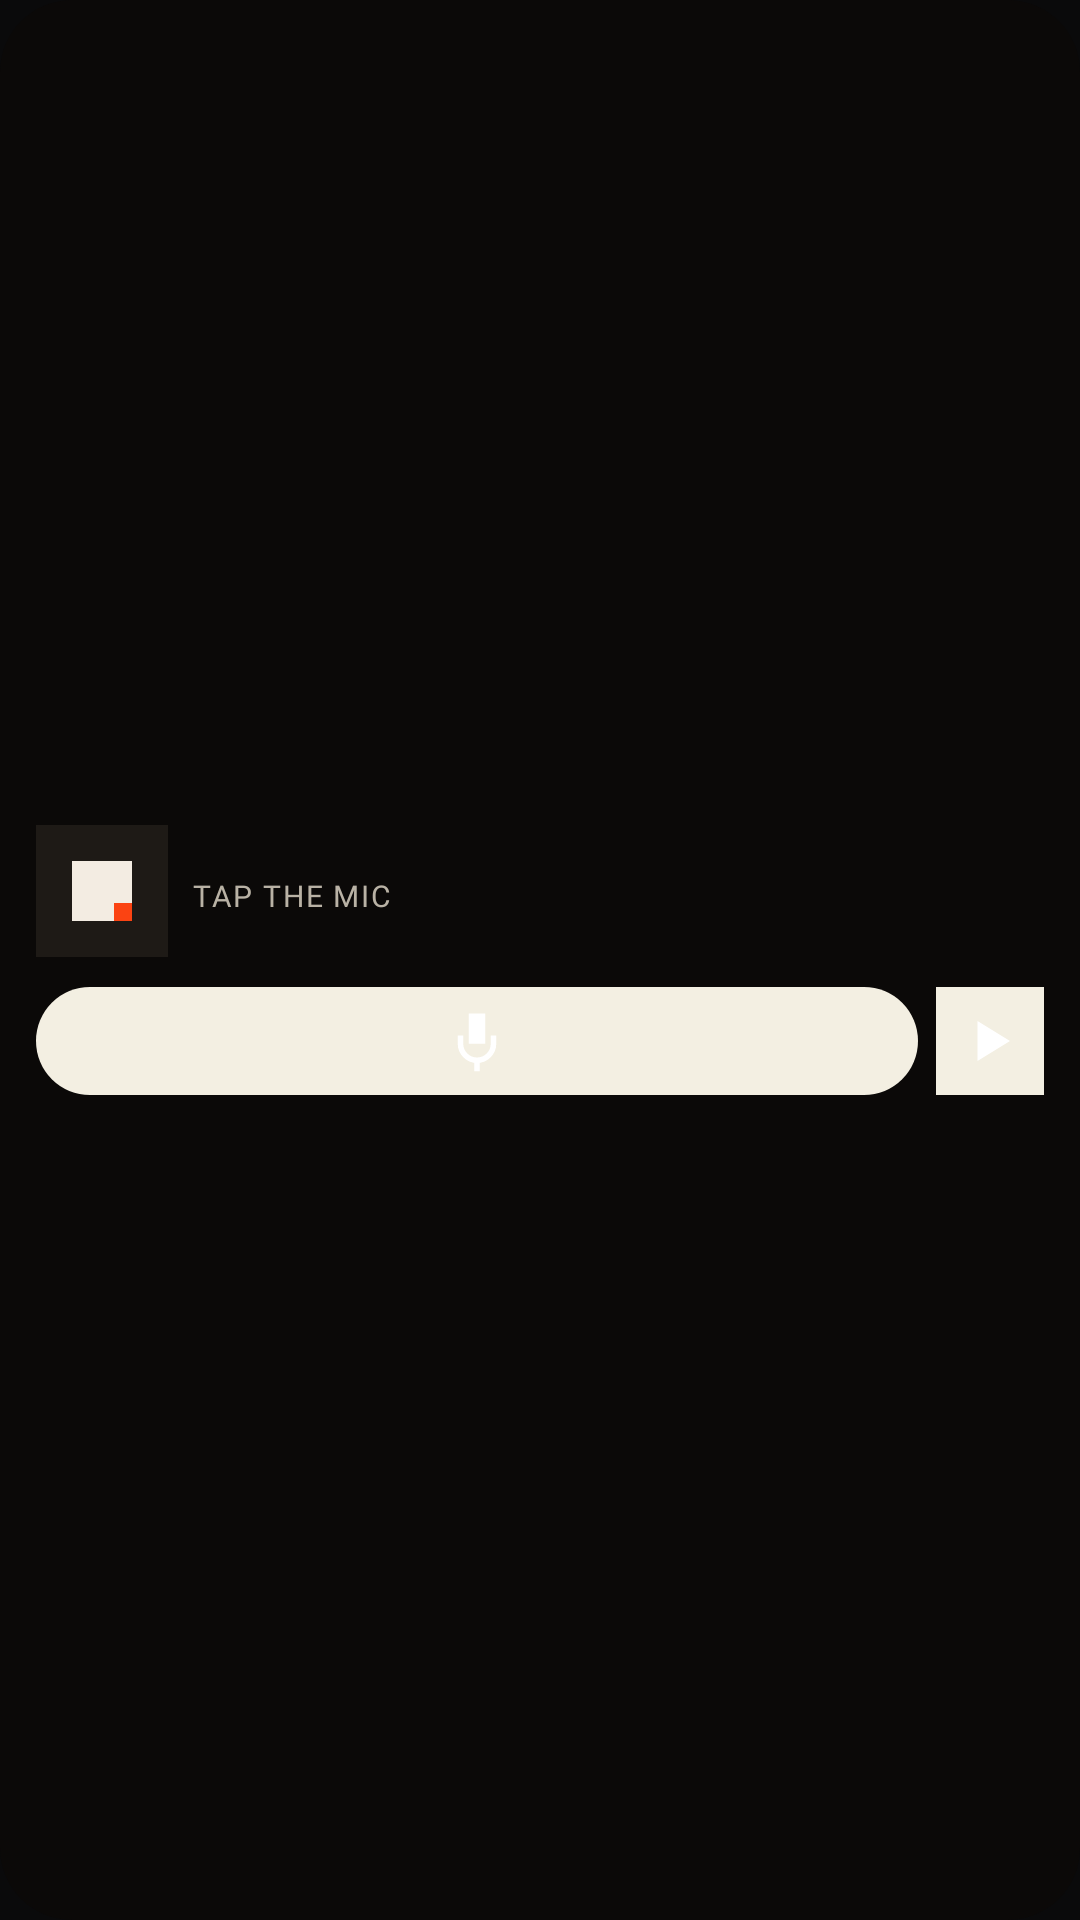

Point at icon controls on the screen. Image size 1080 x 1920, points as [x,y].
Play the identified song: [990,1041]
